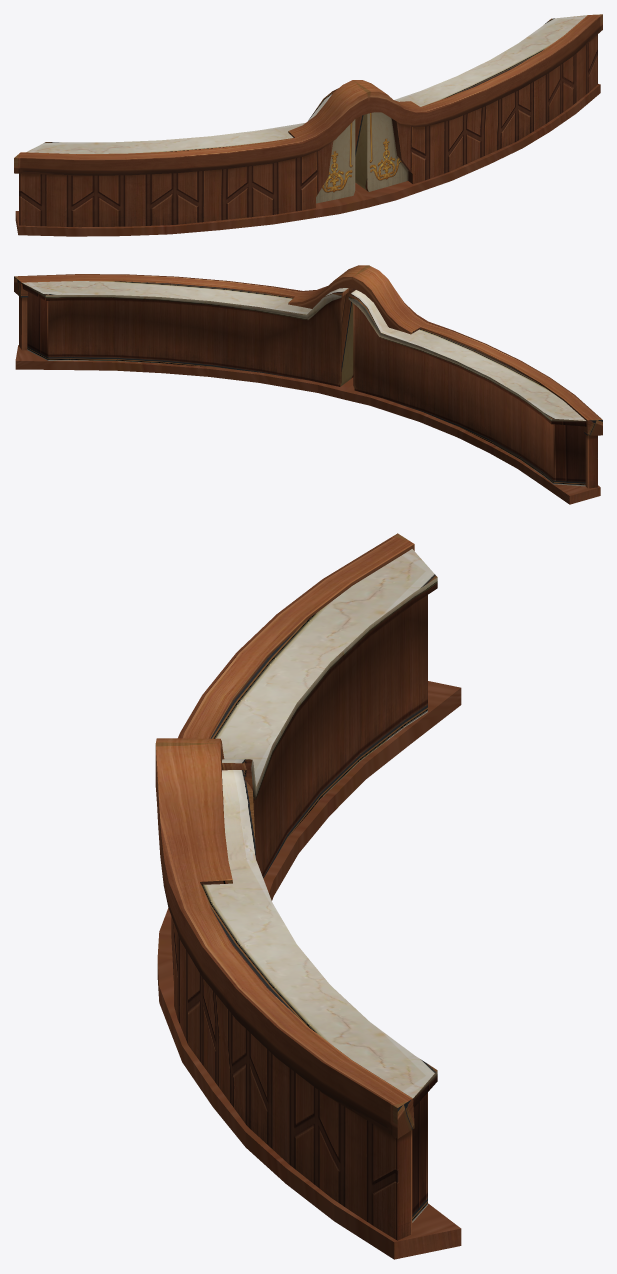
The model's file is SM_Cxg_build_shinei016_LOD0.fbx.
3 views of the same model, one above another, from view 1: azimuth 30°, elevation 25°; view 2: azimuth 150°, elevation 25°; view 3: azimuth 270°, elevation 25° (orthographic). The views are drawn at different scales.
Visible parts, largest first — view 1: SM_Cxg_build_shinei016_LOD0; view 2: SM_Cxg_build_shinei016_LOD0; view 3: SM_Cxg_build_shinei016_LOD0.
Boxes of the visible parts, bbox=[...] form: SM_Cxg_build_shinei016_LOD0: bbox=[14, 14, 602, 236]; SM_Cxg_build_shinei016_LOD0: bbox=[14, 265, 602, 504]; SM_Cxg_build_shinei016_LOD0: bbox=[155, 533, 461, 1259].
Size of the model in its own units: 617 by 116 by 139.
Materials: 1 (1 with a texture image).
